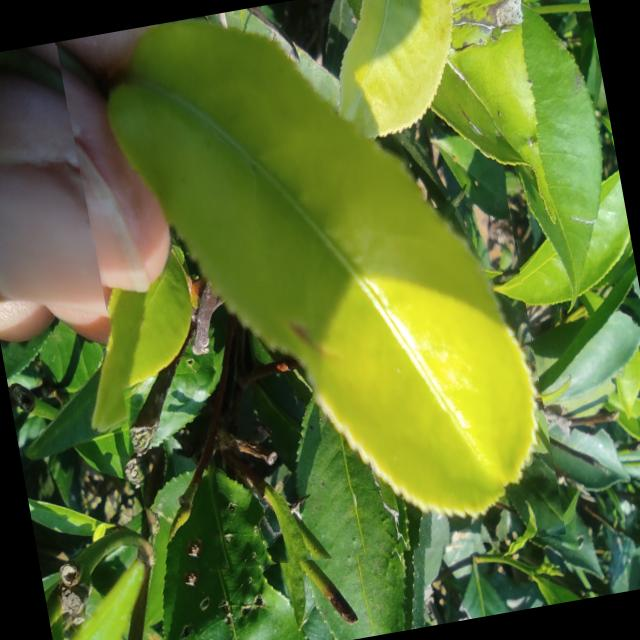Category C(4-7 days): (54, 0, 565, 607)
